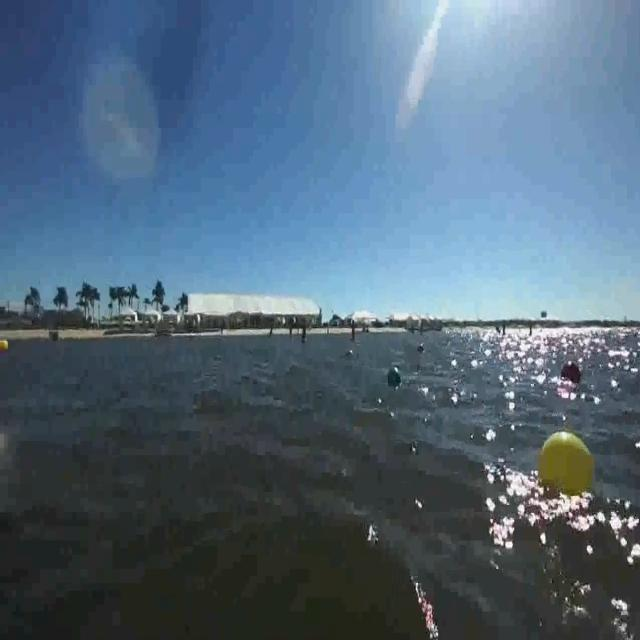yellow-buoy: (537, 429, 595, 501)
